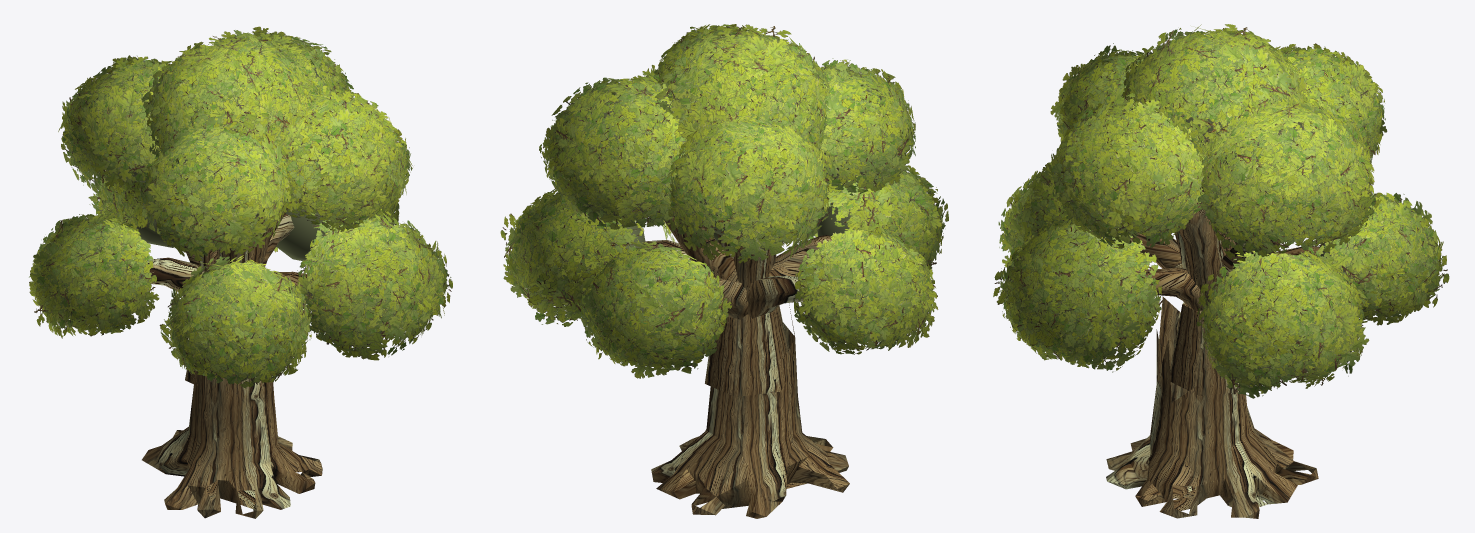
The model's file is tree_oak_2.glb.
3 views of the same model, side by side, from view 1: azimuth 30°, elevation 25°; view 2: azimuth 150°, elevation 25°; view 3: azimuth 270°, elevation 25° (orthographic). The views are drawn at different scales.
Visible parts, largest first — view 1: Leaves, Trunk, CrownCore; view 2: Leaves, Trunk, CrownCore; view 3: Leaves, Trunk.
Part boxes in pixels (left/top/right/bottom): Leaves: left=29, top=26, right=452, bottom=388; Trunk: left=142, top=199, right=322, bottom=518; CrownCore: left=64, top=69, right=406, bottom=335; Leaves: left=500, top=24, right=948, bottom=378; Trunk: left=643, top=212, right=849, bottom=518; CrownCore: left=572, top=66, right=889, bottom=340; Leaves: left=993, top=24, right=1449, bottom=398; Trunk: left=1106, top=199, right=1319, bottom=518.
Bounding box in the file's own units: 4.29 × 4.65 × 4.29.
3 materials, 2 textured.
